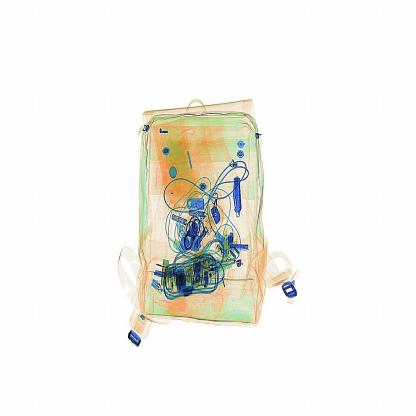knife: (224, 170, 251, 223)
